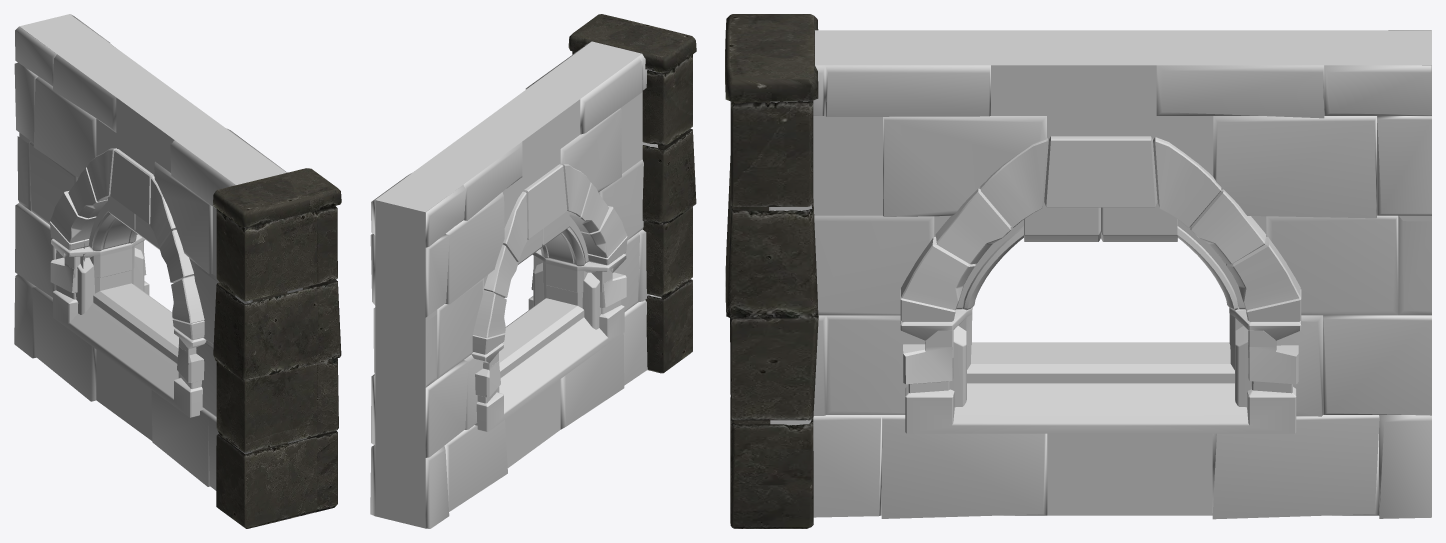
3 views of the same model, side by side, from view 1: azimuth 30°, elevation 25°; view 2: azimuth 150°, elevation 25°; view 3: azimuth 270°, elevation 25° (orthographic). The views are drawn at different scales.
Visible parts, largest first — view 1: SM_Greathall_Wall_8x6_01_Overflow_LOD0; view 2: SM_Greathall_Wall_8x6_01_Overflow_LOD0; view 3: SM_Greathall_Wall_8x6_01_Overflow_LOD0.
Boxes of the visible parts, <box> form: SM_Greathall_Wall_8x6_01_Overflow_LOD0: <box>14,14,341,528</box>; SM_Greathall_Wall_8x6_01_Overflow_LOD0: <box>370,14,696,528</box>; SM_Greathall_Wall_8x6_01_Overflow_LOD0: <box>725,14,1431,528</box>.
Size of the model in its own units: 1.99 by 6.02 by 8.53.
Materials: 2 (1 with a texture image).
